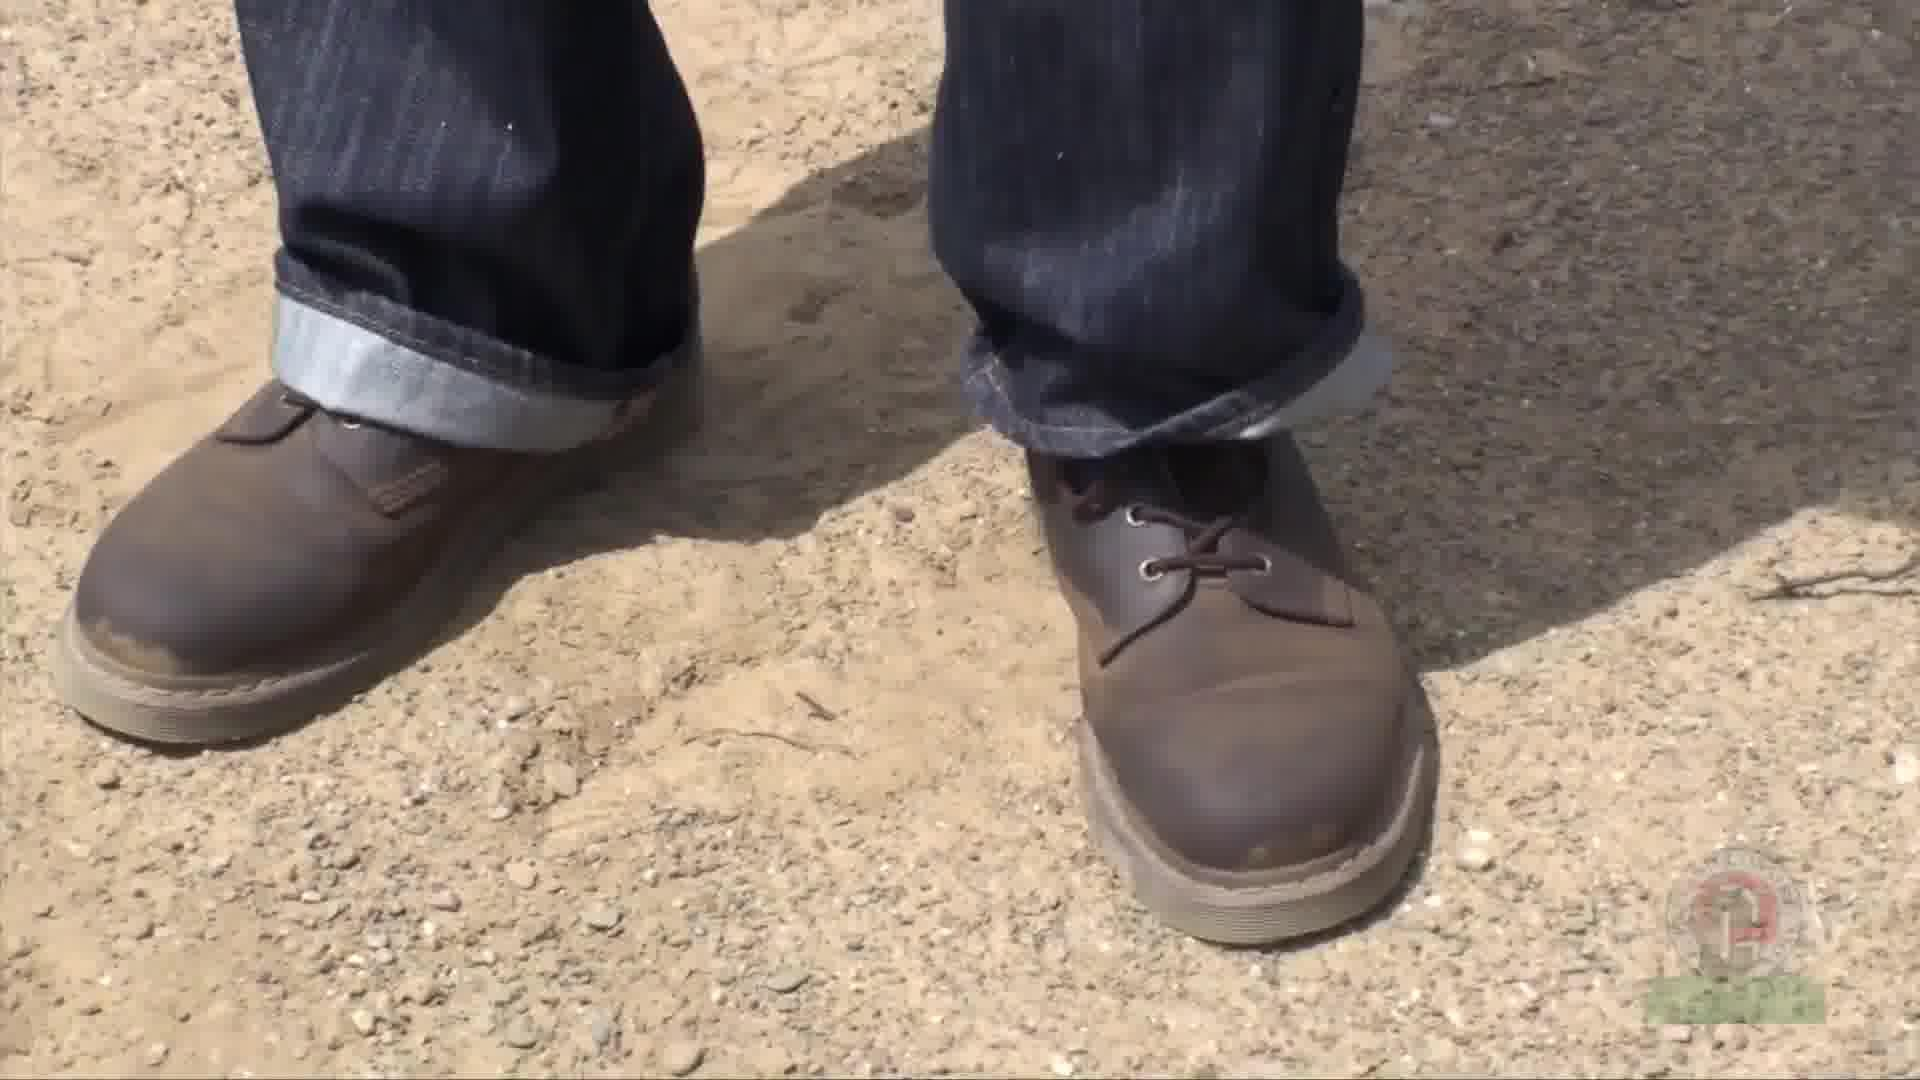safety boot: (26, 280, 1443, 1077)
